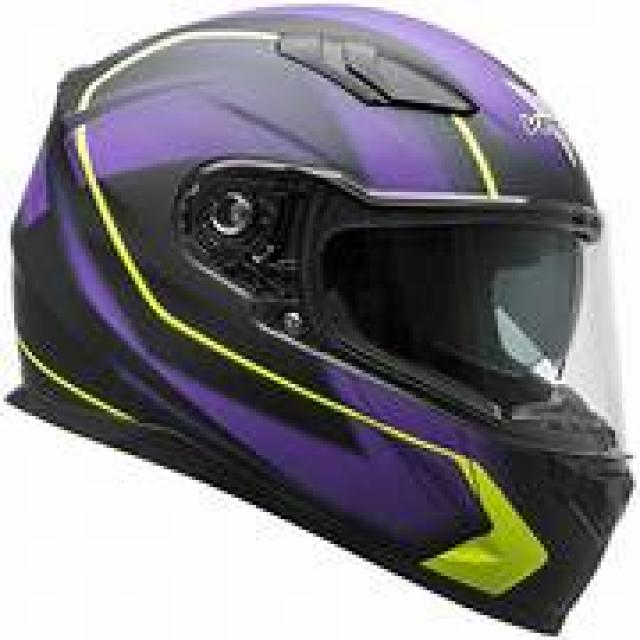helmet: (14, 7, 629, 626)
